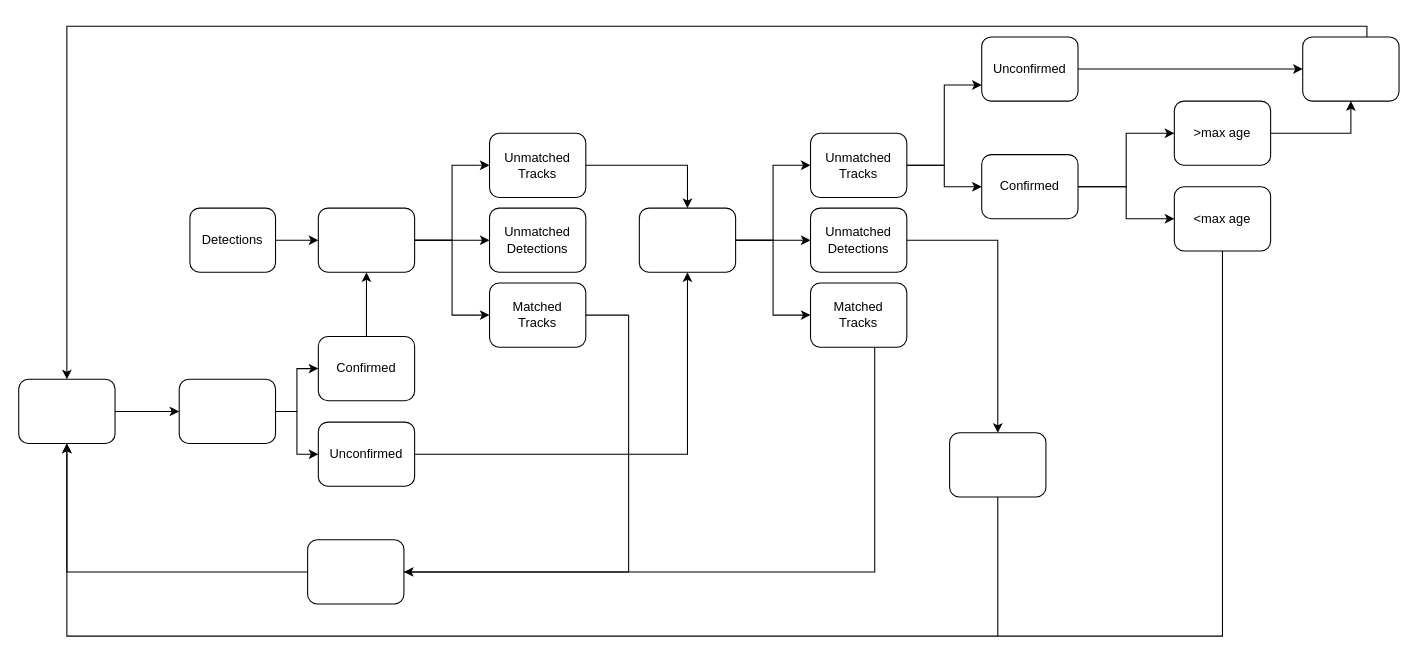
Image size: 1418x663. Some labels were removed from this diagram. The centre of each missing label's shape, as x and y in pixels:
"Deleted" belongs at [1350,68].
"IOU Match" belongs at [687,239].
"Kalman Filter Predict" belongs at [227,411].
"Kalman Filter Update" belongs at [355,571].
"Matching Cascade" belongs at [366,239].
"New Tracks" belongs at [997,464].
"Tracks" belongs at [66,411].
